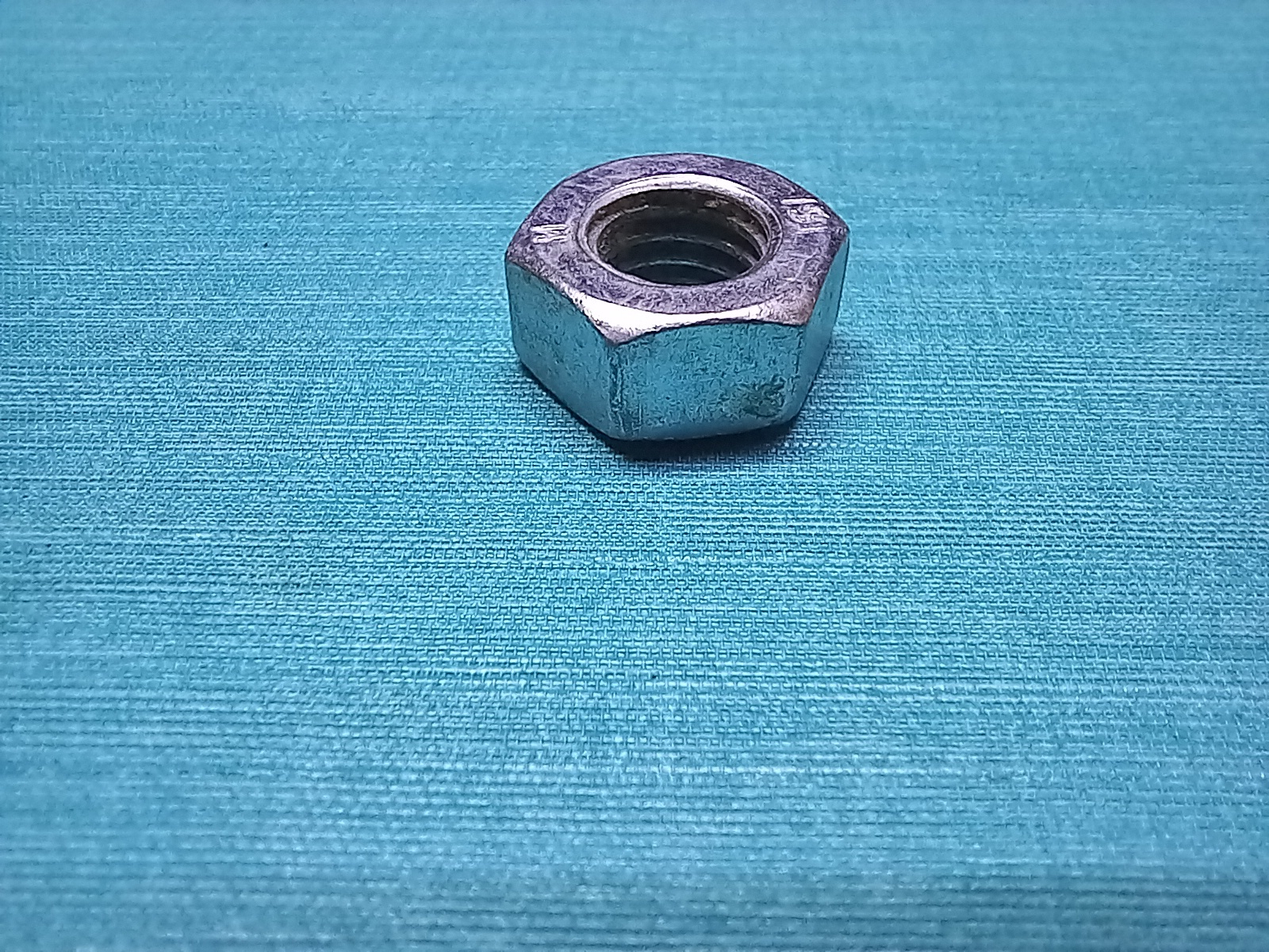nut: (291, 92, 1034, 721)
